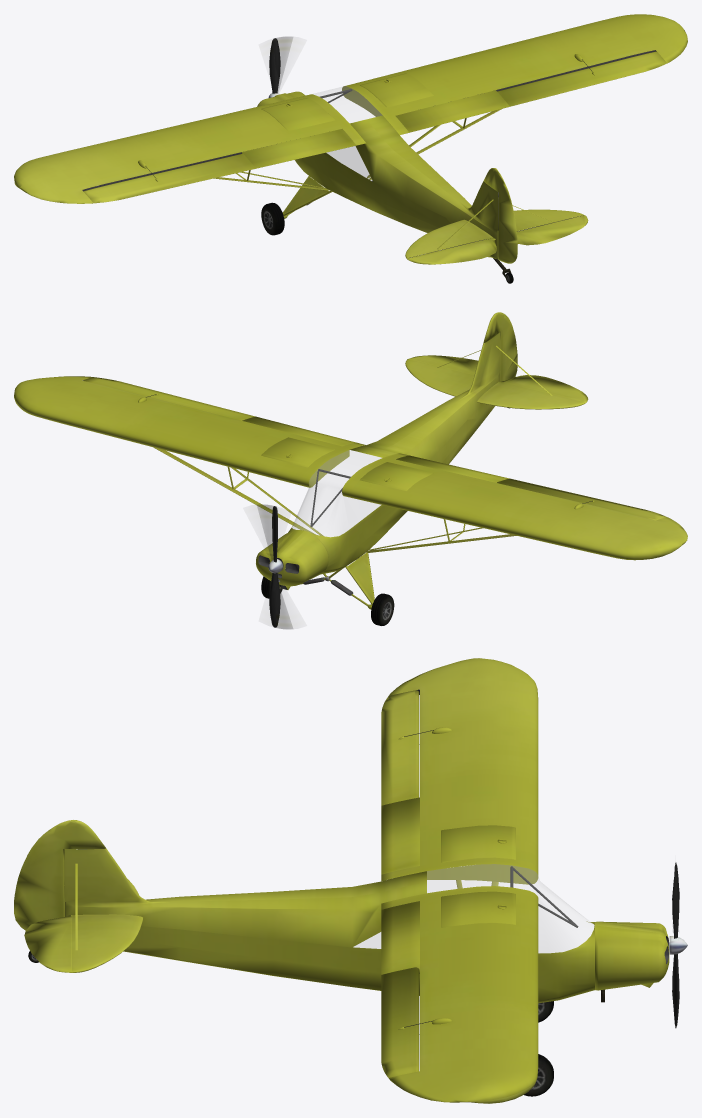
The model's file is pipercub.glb.
3 views of the same model, one above another, from view 1: azimuth 30°, elevation 25°; view 2: azimuth 150°, elevation 25°; view 3: azimuth 270°, elevation 25° (orthographic). The views are drawn at different scales.
Parts seen in each view (by area): view 1: voletG, trous, vitres, propdisc; view 2: voletG, vitres, trous, propdisc; view 3: voletG, trous, vitres.
Boxes of the visible parts, x1,y1,x2,y2 form: voletG: (14,14,687,283); trous: (82,50,656,263); vitres: (313,86,381,181); propdisc: (273,36,293,92); voletG: (14,332,687,627); vitres: (292,450,381,536); trous: (258,312,517,589); propdisc: (257,504,293,629); voletG: (24,658,687,1103); trous: (14,689,669,963); vitres: (354,864,594,953).
Bounding box in the file's own units: 10.71 × 2.7 × 6.92.
Materials: 3 (2 with a texture image).
